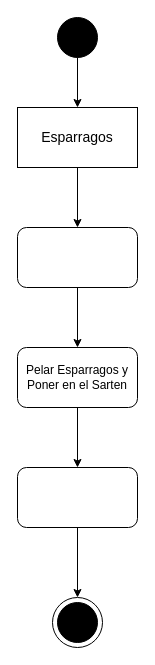
The diagram is 155 pixels wide and 665 high, and some of its shapes have lost their labels. The centre of each missing label's shape, as x and y in pixels:
"Cocer por 5 minutos" belongs at [77,497].
"Hervir Agua" belongs at [77,257].
